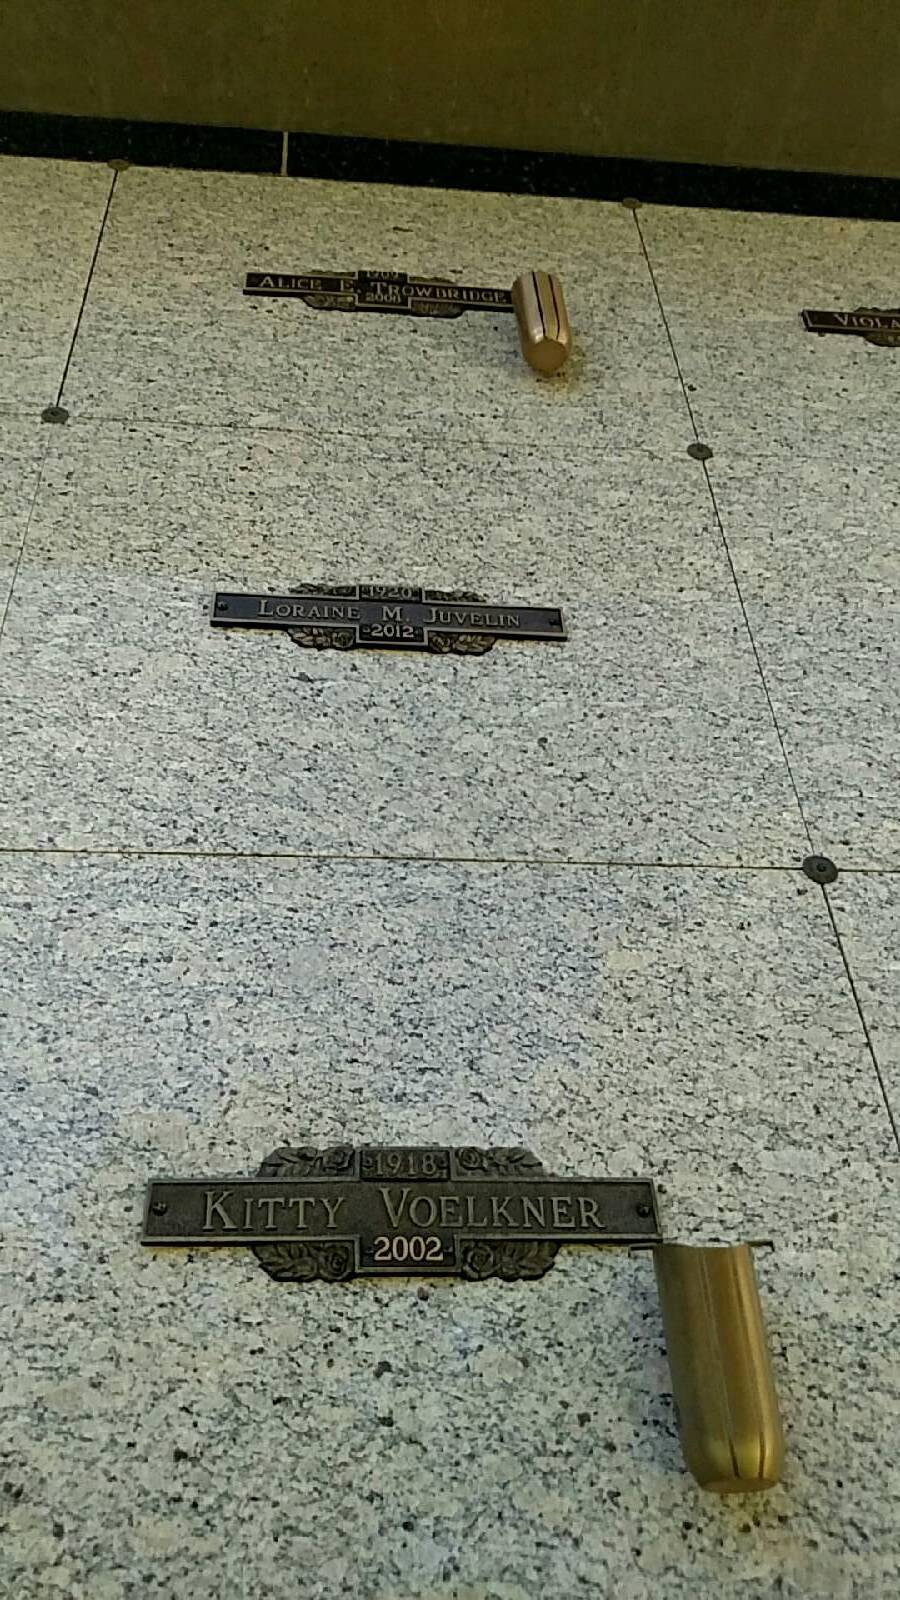plaque: (0, 836, 900, 1595)
